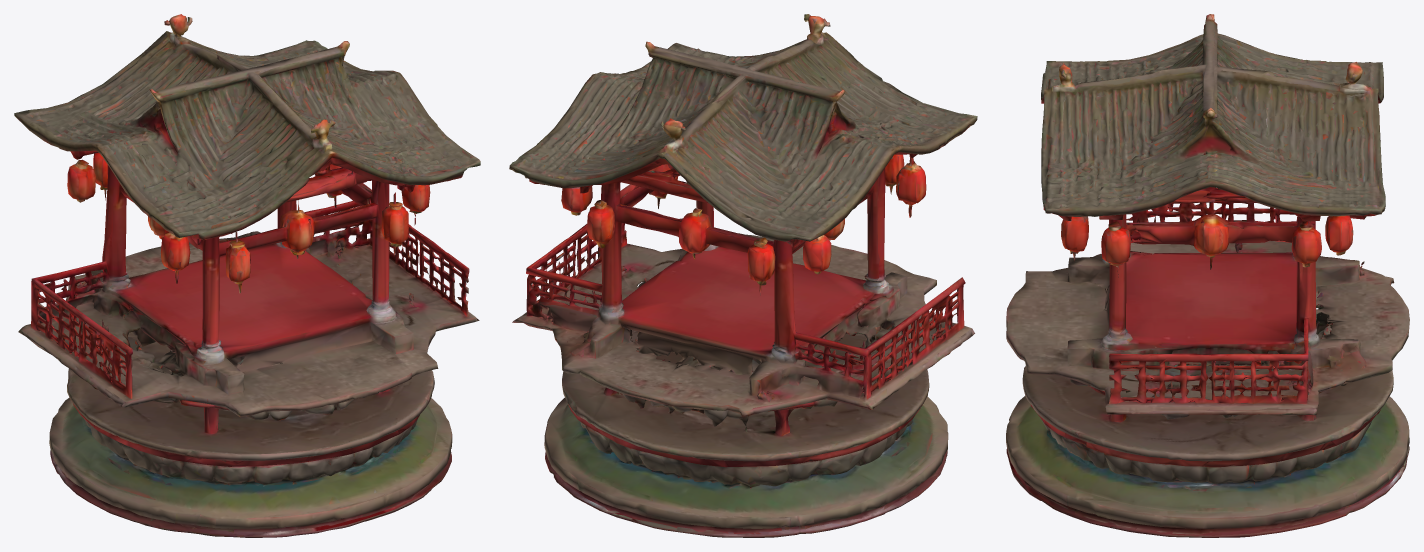
The model's file is bq_music_pav.glb.
3 views of the same model, side by side, from view 1: azimuth 30°, elevation 25°; view 2: azimuth 150°, elevation 25°; view 3: azimuth 270°, elevation 25° (orthographic).
Size of the model in its own units: 1.94 by 2 by 1.87.
1 material, 1 textured.
